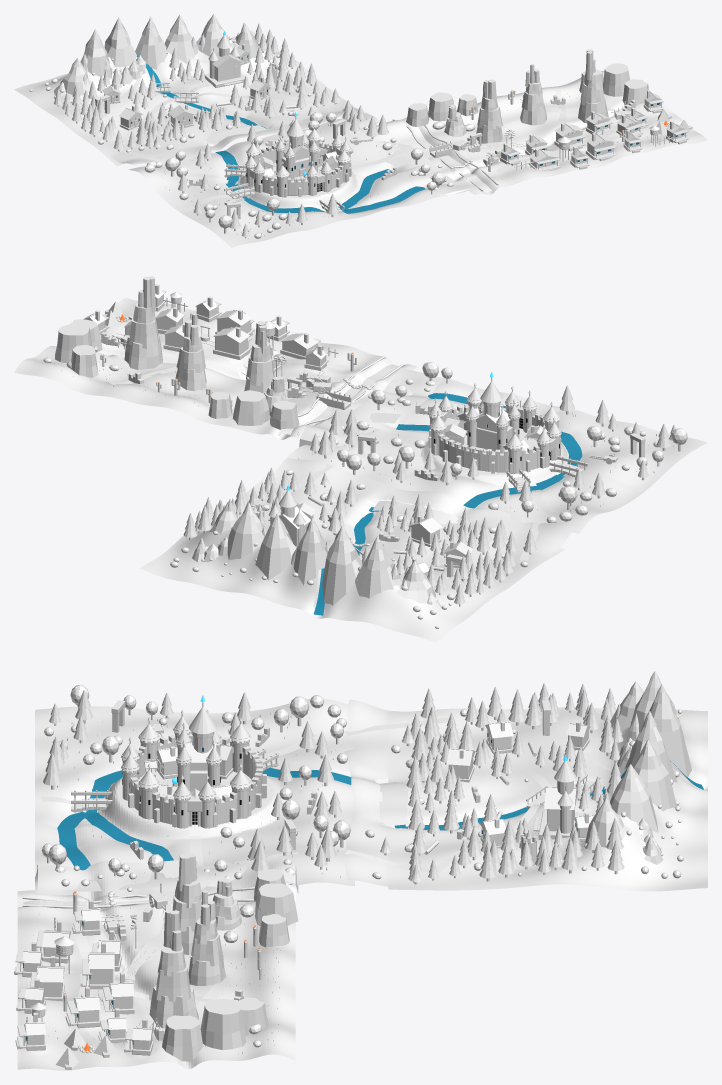
Rendered from castle-desert-mountains-circle.glb.
3 renders of one model, top to bottom at view 1: azimuth 30°, elevation 25°; view 2: azimuth 150°, elevation 25°; view 3: azimuth 270°, elevation 25°, orthographic. The views are drawn at different scales.
Visible parts, largest first — view 1: Castle Valley Terrain, Detailed Ember Dunes Terrain, Detailed Alpine Mountain Terrain, Natural castle valley to mountain foothills, Wide natural grass to desert transition, Main blue river, High Crown Peak, Silver Needle Peak, Twin Moon Peak, Frostfang Peak, Boundary cliff.004, Western Sentinel Peak (+14 smaller); view 2: Castle Valley Terrain, Detailed Alpine Mountain Terrain, Detailed Ember Dunes Terrain, Natural castle valley to mountain foothills, Wide natural grass to desert transition, High Crown Peak, Twin Moon Peak, Frostfang Peak, Silver Needle Peak, Eastern Rampart Peak, Main blue river, Boundary cliff.001 (+11 smaller); view 3: Castle Valley Terrain, Detailed Alpine Mountain Terrain, Detailed Ember Dunes Terrain, Natural castle valley to mountain foothills, Wide natural grass to desert transition, Boundary cliff.004, Main blue river, High Crown Peak, Eastern Rampart Peak, Twin Moon Peak, Boundary cliff.005, Boundary cliff.001 (+16 smaller).
Boxes of the visible parts, <box> form: Castle Valley Terrain: <box>128,112,468,247</box>; Detailed Ember Dunes Terrain: <box>391,70,707,195</box>; Detailed Alpine Mountain Terrain: <box>14,30,354,166</box>; Natural castle valley to mountain foothills: <box>108,98,364,164</box>; Wide natural grass to desert transition: <box>348,121,475,198</box>; Main blue river: <box>215,150,390,212</box>; High Crown Peak: <box>104,17,137,67</box>; Silver Needle Peak: <box>135,17,167,69</box>; Twin Moon Peak: <box>164,15,197,63</box>; Frostfang Peak: <box>80,29,109,76</box>; Boundary cliff.004: <box>602,63,629,96</box>; Western Sentinel Peak: <box>60,58,93,95</box>; Castle Valley Terrain: <box>282,377,707,533</box>; Detailed Alpine Mountain Terrain: <box>139,476,564,642</box>; Detailed Ember Dunes Terrain: <box>14,297,417,439</box>; Natural castle valley to mountain foothills: <box>255,458,577,556</box>; Wide natural grass to desert transition: <box>299,368,448,451</box>; High Crown Peak: <box>322,525,362,605</box>; Twin Moon Peak: <box>255,513,296,580</box>; Frostfang Peak: <box>355,536,394,598</box>; Silver Needle Peak: <box>293,517,327,585</box>; Eastern Rampart Peak: <box>227,503,265,560</box>; Main blue river: <box>396,424,582,508</box>; Boundary cliff.001: <box>232,390,269,425</box>; Castle Valley Terrain: <box>35,698,354,891</box>; Detailed Alpine Mountain Terrain: <box>388,707,707,891</box>; Detailed Ember Dunes Terrain: <box>17,881,295,1070</box>; Natural castle valley to mountain foothills: <box>343,699,432,888</box>; Wide natural grass to desert transition: <box>35,852,298,899</box>; Boundary cliff.004: <box>200,998,245,1049</box>; Main blue river: <box>85,768,351,861</box>; High Crown Peak: <box>642,684,691,777</box>; Eastern Rampart Peak: <box>610,764,658,832</box>; Twin Moon Peak: <box>633,739,676,811</box>; Boundary cliff.005: <box>162,1015,203,1061</box>; Boundary cliff.001: <box>255,883,298,925</box>.
Bounding box in the file's own units: 48.4 × 7.68 × 39.93.
